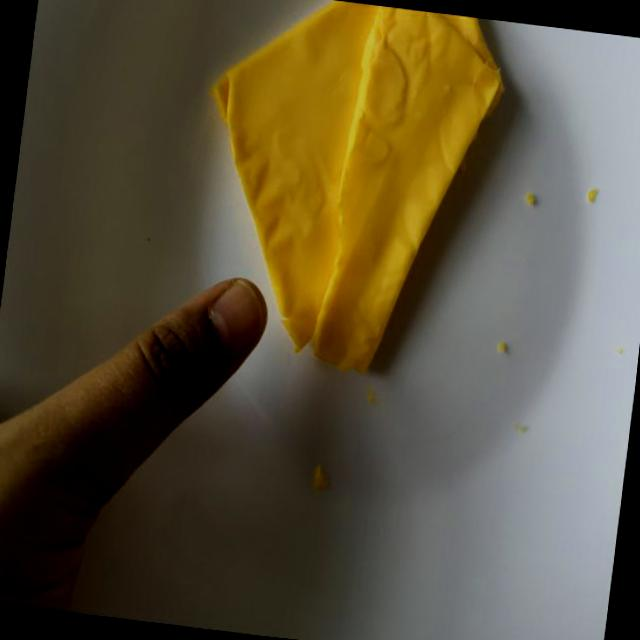Cheese: (193, 0, 519, 304)
Finger: (117, 264, 274, 446)
